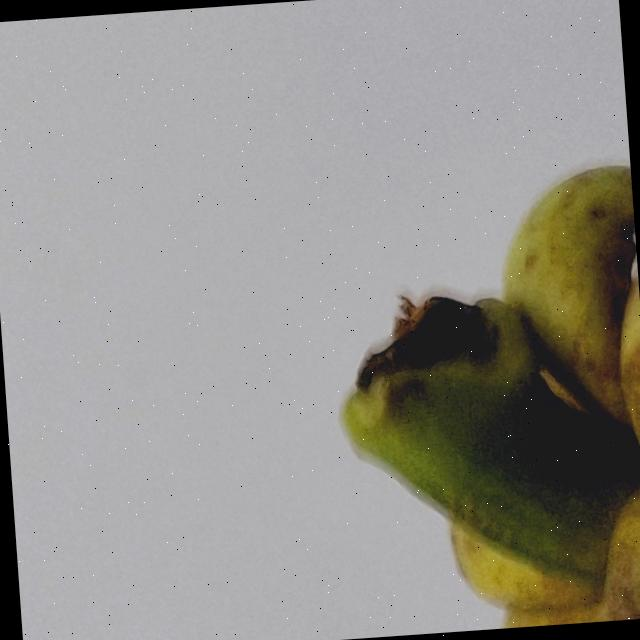mangosteen: (267, 0, 640, 640)
